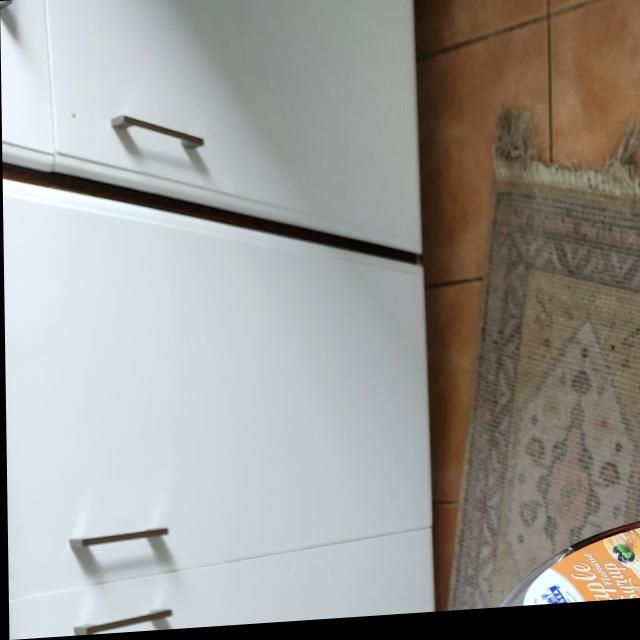syrup: (372, 520, 640, 621)
